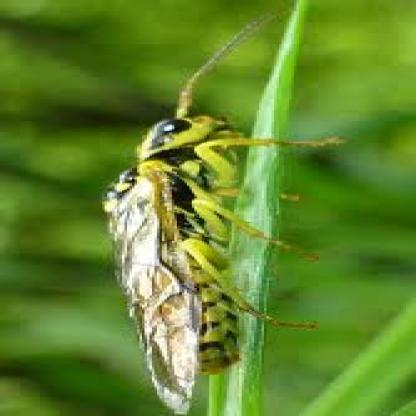sawfly: (87, 20, 348, 416)
